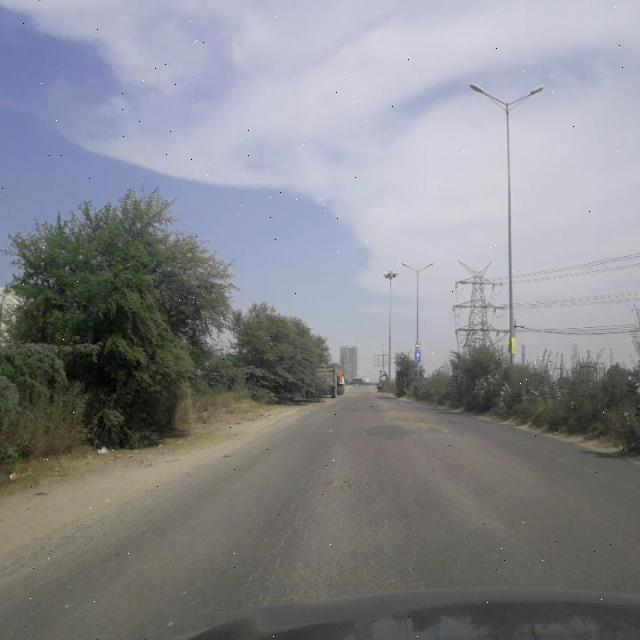D00: (45, 476, 211, 582)
D20: (232, 442, 502, 608)
D40: (393, 410, 454, 433), (319, 470, 358, 495)
